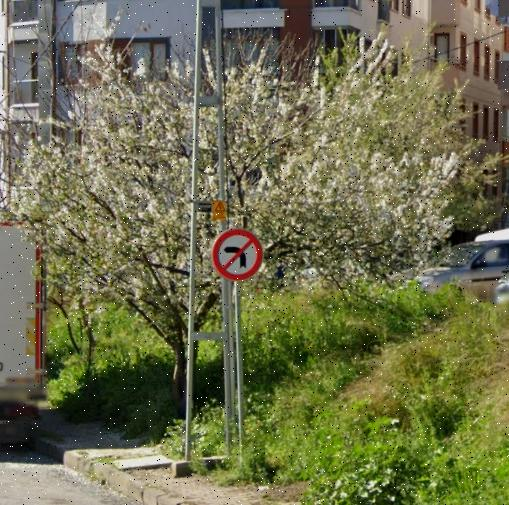leftturnsareforbidden: (214, 229, 259, 279)
